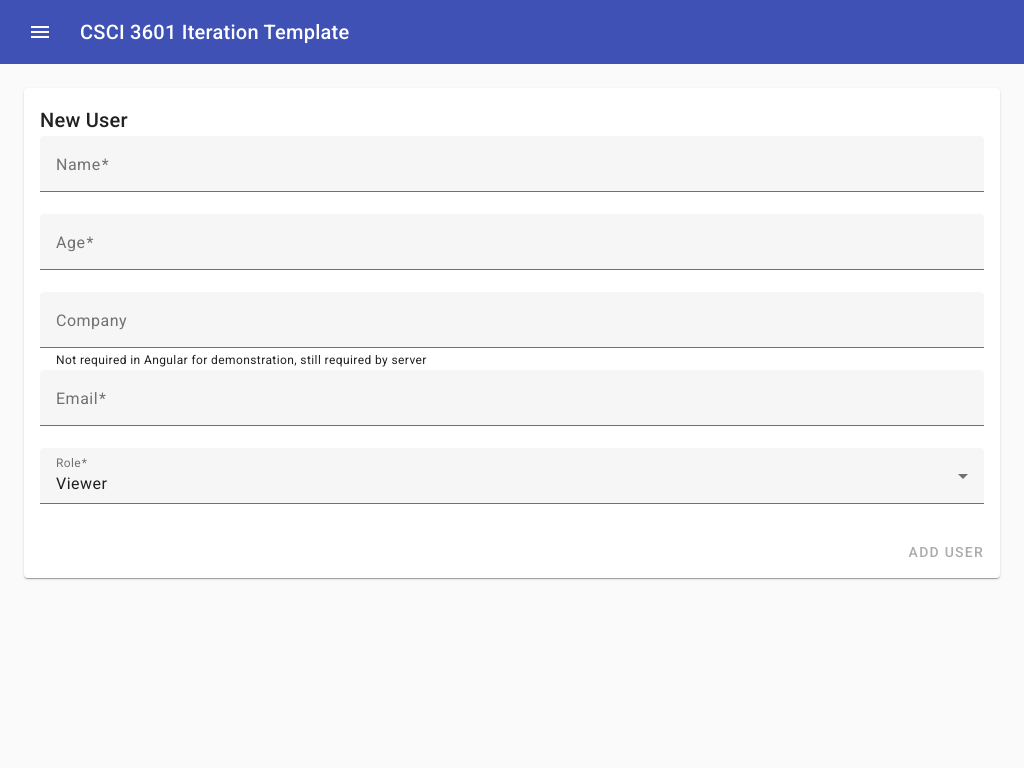
Test: Add user › Should enable and disable the add user button
Expected: the button with test id "confirmAddUserButton" is disabled, [901,534,992,570]
Type "test" into the field labelled "Name" at (512, 172), box [56,160,968,184]
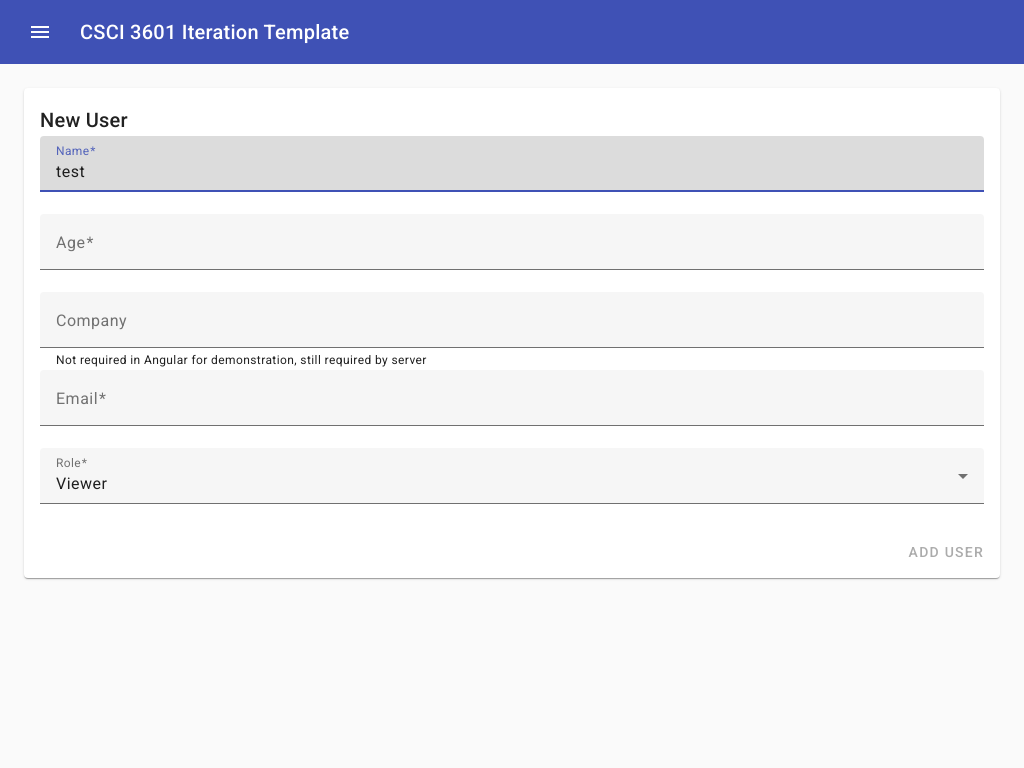
Expected: the button with test id "confirmAddUserButton" is disabled, [901,534,992,570]
Type "20" into the number field labelled "Age" at (512, 250), box [56,238,968,262]
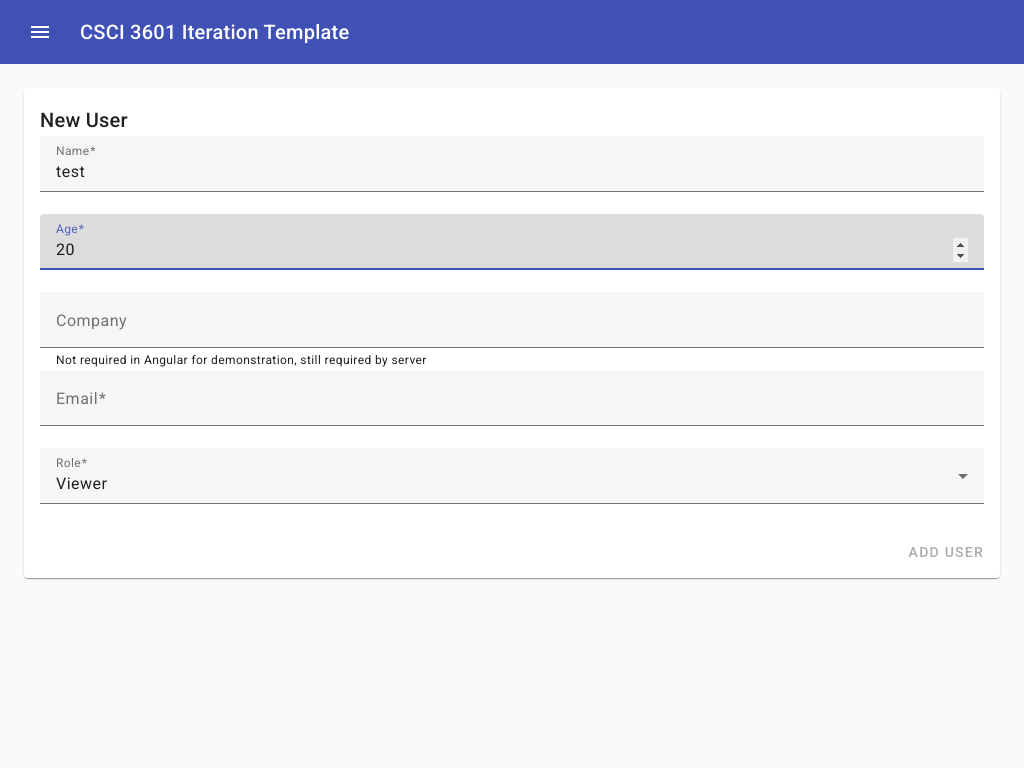
Expected: the button with test id "confirmAddUserButton" is disabled, [901,534,992,570]
Type "invalid" into the field labelled "Email" at (512, 406), box [56,394,968,418]
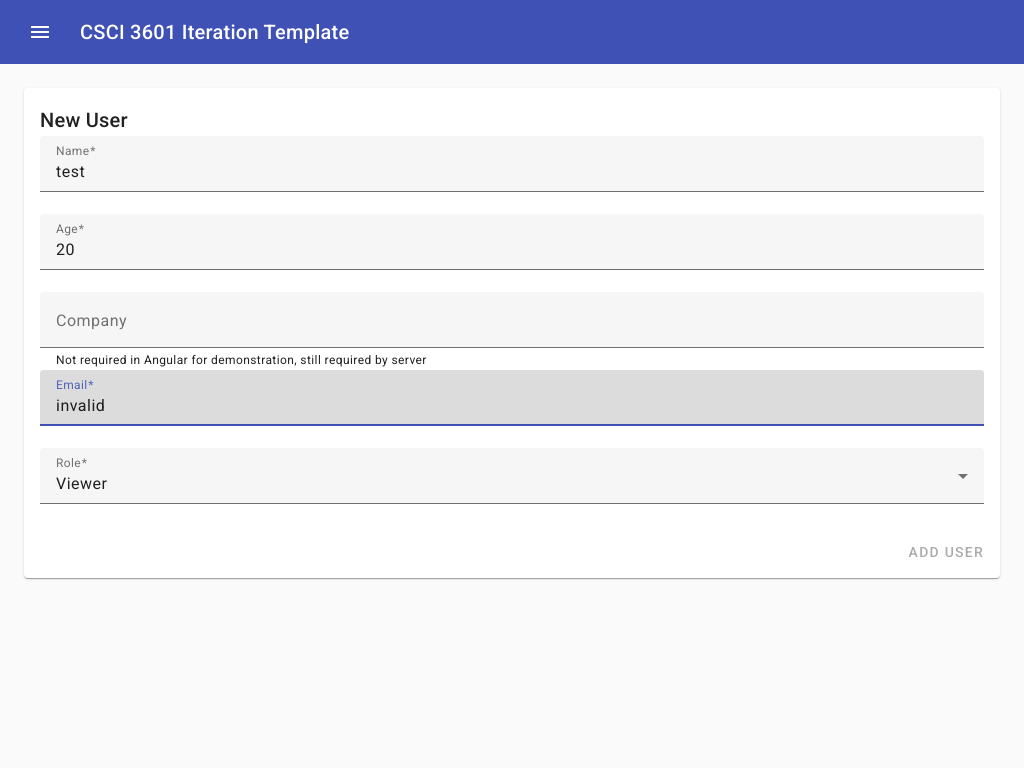
Expected: the button with test id "confirmAddUserButton" is disabled, [901,534,992,570]
Replace the text in the field labelled "Email" with "user@example.com" at (512, 406), box [56,394,968,418]
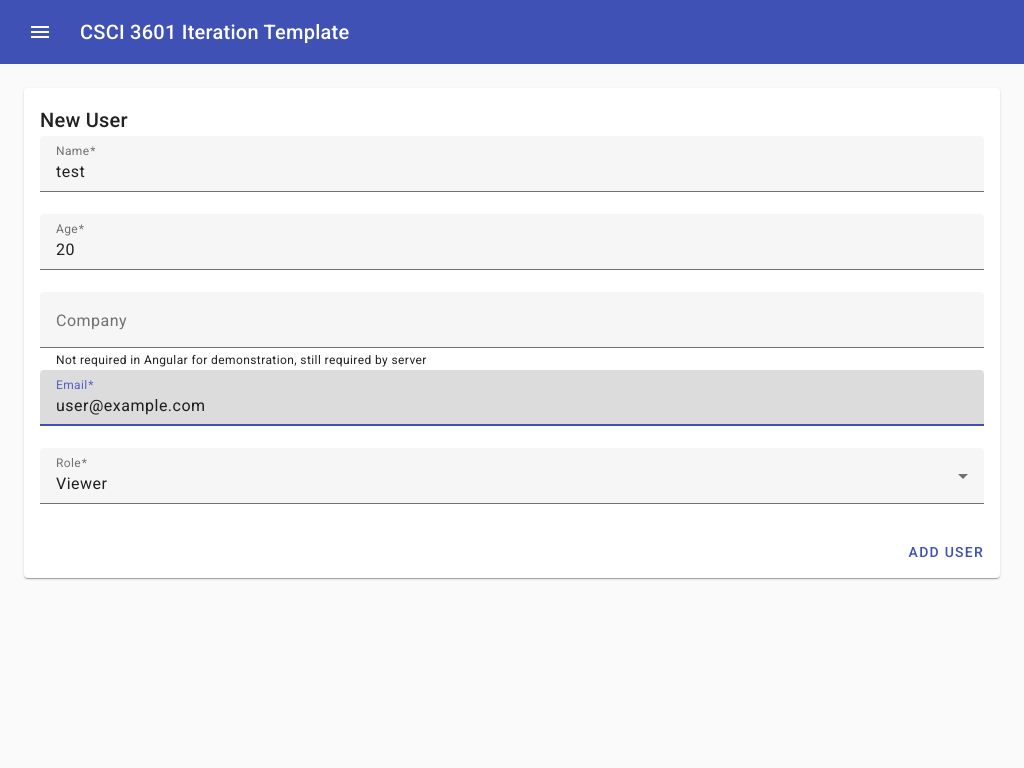
Result: the button with test id "confirmAddUserButton" is enabled at [901,534,992,570]
